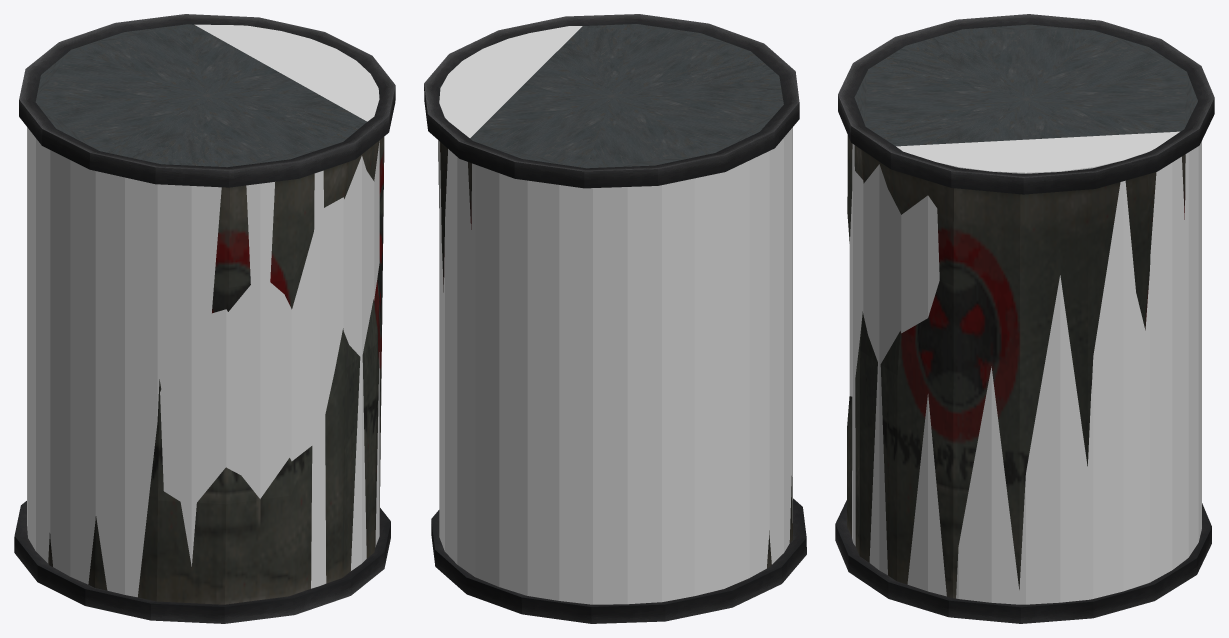
Rendered from merc-darkeco-barrel.glb.
3 views of the same model, side by side, from view 1: azimuth 30°, elevation 25°; view 2: azimuth 150°, elevation 25°; view 3: azimuth 270°, elevation 25° (orthographic).
Parts seen in each view (by area): view 1: collide-mesh, merc-darkeco-barrel; view 2: collide-mesh, merc-darkeco-barrel; view 3: merc-darkeco-barrel, collide-mesh.
Boxes of the visible parts, box(x1,y1,x2,y2) form: collide-mesh: box(27, 24, 379, 597); merc-darkeco-barrel: box(14, 14, 395, 623); collide-mesh: box(439, 26, 792, 604); merc-darkeco-barrel: box(424, 14, 806, 623); merc-darkeco-barrel: box(835, 14, 1214, 623); collide-mesh: box(849, 131, 1201, 604).
Bounding box in the file's own units: 1.85 × 2.41 × 1.83.
3 materials, 3 textured.
